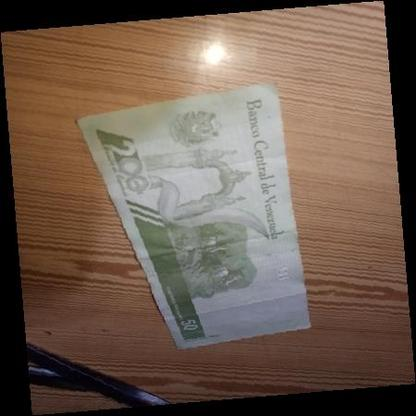fifty-back-vef: (74, 80, 312, 350)
